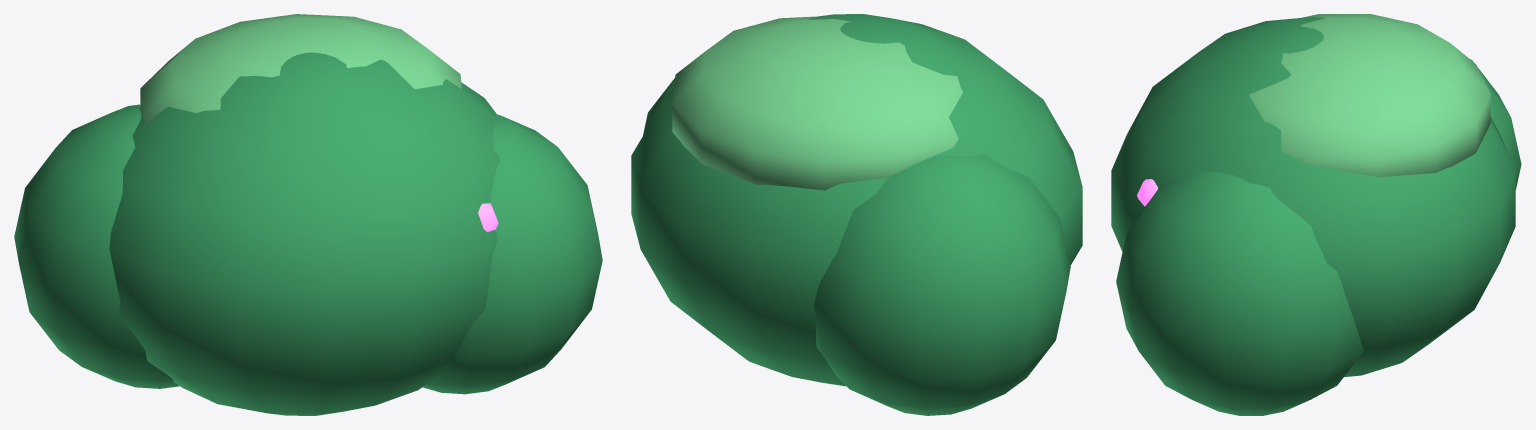
File: bush.glb
The picture shows the model from 3 angles, left to right: view 1: azimuth 30°, elevation 25°; view 2: azimuth 150°, elevation 25°; view 3: azimuth 270°, elevation 25°; orthographic projection. The views are drawn at different scales.
Visible parts, largest first — view 1: Bush.001; view 2: Bush.001; view 3: Bush.001.
Part boxes in pixels (bbox=[...]): Bush.001: bbox=[14, 14, 602, 415]; Bush.001: bbox=[631, 14, 1082, 415]; Bush.001: bbox=[1111, 14, 1521, 415].
Bounding box in the file's own units: 0.997 × 0.686 × 0.7889.
